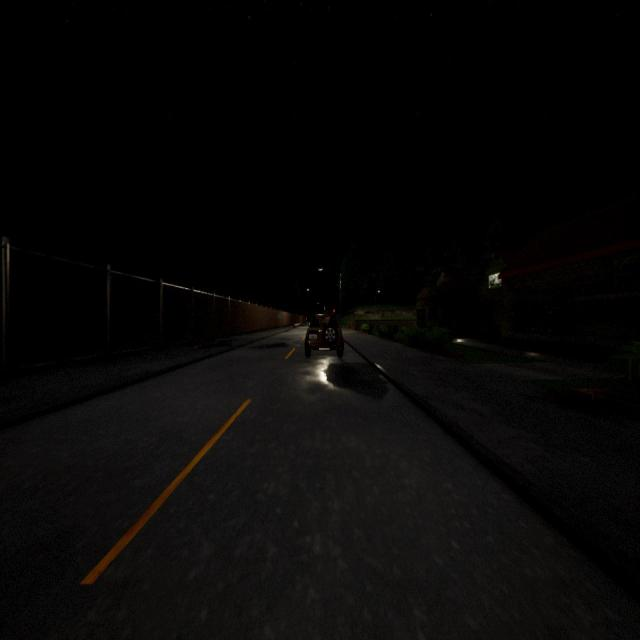Vehicle: (304, 312, 344, 358)
traffic_light: (333, 309, 335, 313)
